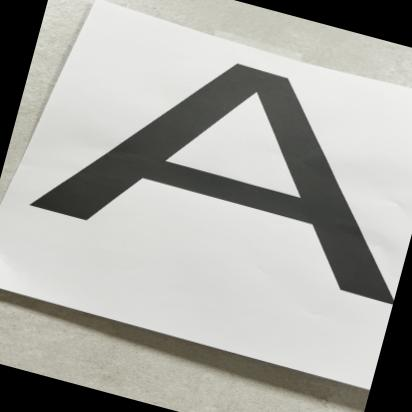seat: (14, 2, 412, 336)
